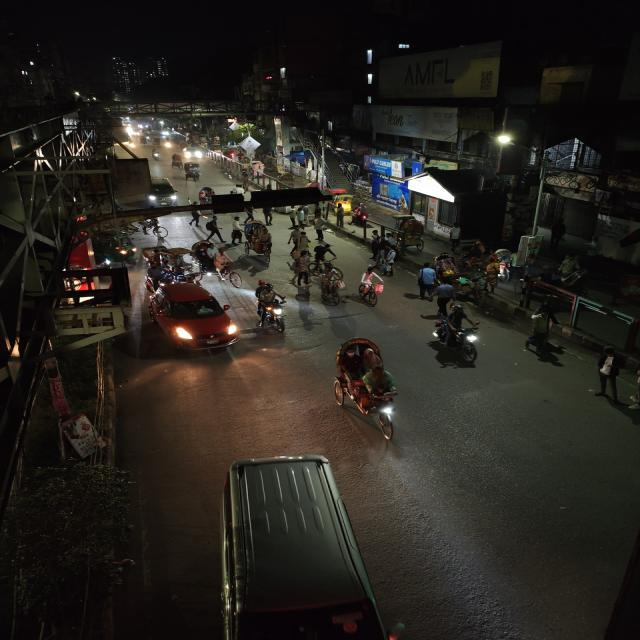bicycle: (252, 279, 289, 333), (315, 263, 348, 306), (356, 264, 388, 308)
car: (210, 452, 390, 640), (145, 280, 244, 356), (146, 178, 181, 208)
motorcycle: (429, 308, 492, 364), (252, 279, 289, 333), (356, 266, 388, 306)
pedestrian: (587, 345, 631, 403), (519, 324, 569, 368), (414, 262, 438, 300), (289, 251, 313, 287), (531, 302, 560, 330), (434, 282, 457, 314), (379, 244, 399, 276), (311, 242, 335, 268), (367, 230, 386, 260), (204, 214, 223, 242), (228, 222, 245, 247), (187, 206, 204, 230), (228, 214, 244, 238)
rickshaw: (328, 335, 418, 445), (191, 240, 243, 284), (144, 244, 197, 284), (246, 222, 276, 258), (182, 162, 204, 183), (170, 154, 183, 171)
